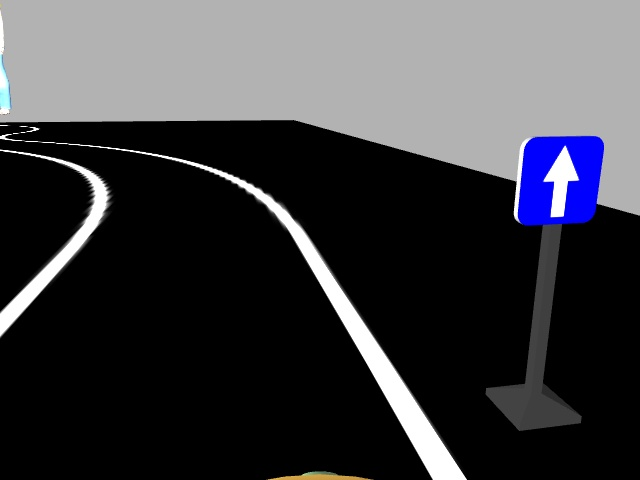OneWay: (514, 135, 599, 222)
